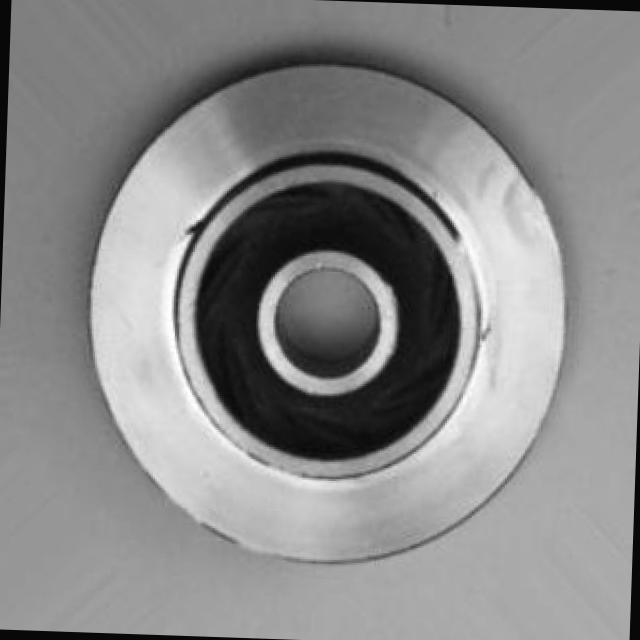Defect: (172, 218, 215, 240)
